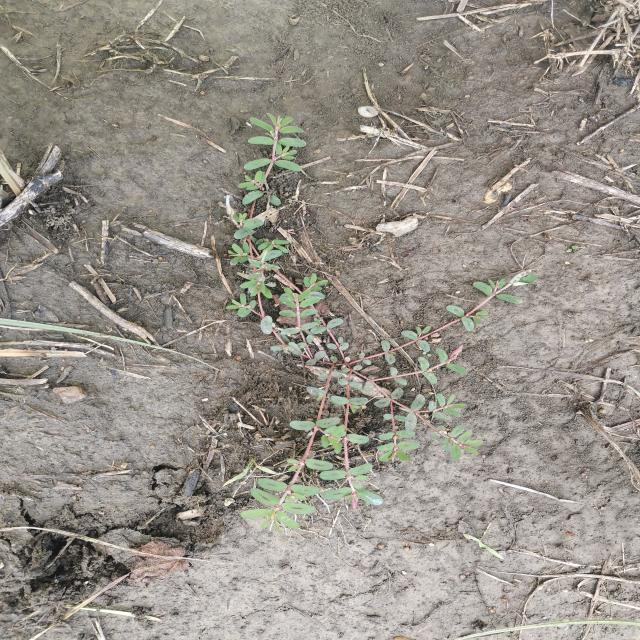SpottedSpurge: (217, 111, 542, 538)
